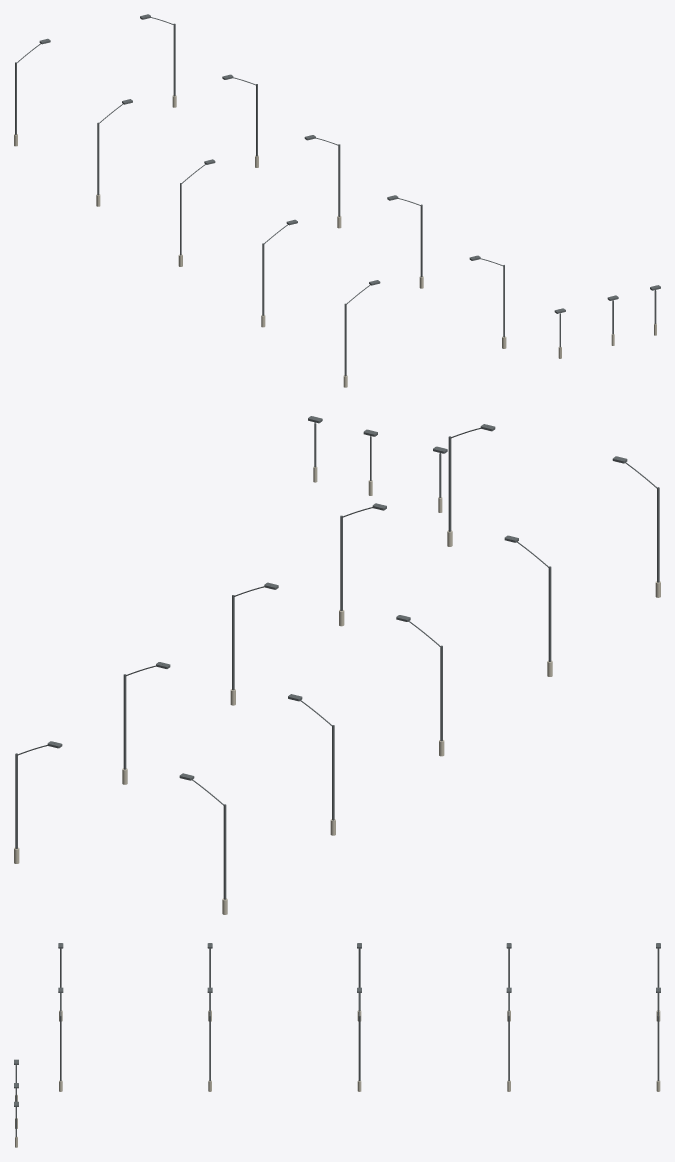
The picture shows the model from 3 angles, top to bottom: view 1: azimuth 30°, elevation 25°; view 2: azimuth 150°, elevation 25°; view 3: azimuth 270°, elevation 25°; orthographic projection. The views are drawn at different scales.
Parts seen in each view (by area): view 1: buildings_s_-12_-4_Dark_Metal, buildings_s_-12_-4_Warm_Limestone; view 2: buildings_s_-12_-4_Dark_Metal, buildings_s_-12_-4_Warm_Limestone; view 3: buildings_s_-12_-4_Dark_Metal, buildings_s_-12_-4_Warm_Limestone.
Part boxes in pixels (<box>): buildings_s_-12_-4_Dark_Metal: <box>15,14,660,376</box>; buildings_s_-12_-4_Warm_Limestone: <box>14,95,656,387</box>; buildings_s_-12_-4_Dark_Metal: <box>15,416,659,899</box>; buildings_s_-12_-4_Warm_Limestone: <box>14,466,660,914</box>; buildings_s_-12_-4_Dark_Metal: <box>14,943,660,1137</box>; buildings_s_-12_-4_Warm_Limestone: <box>15,1010,660,1147</box>.
Size of the model in its own units: 55.19 by 17.75 by 117.
